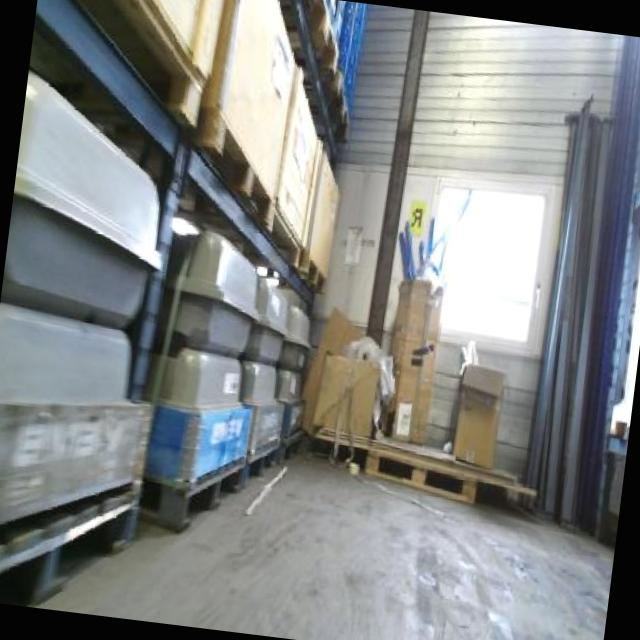pallet: (357, 454, 495, 504)
